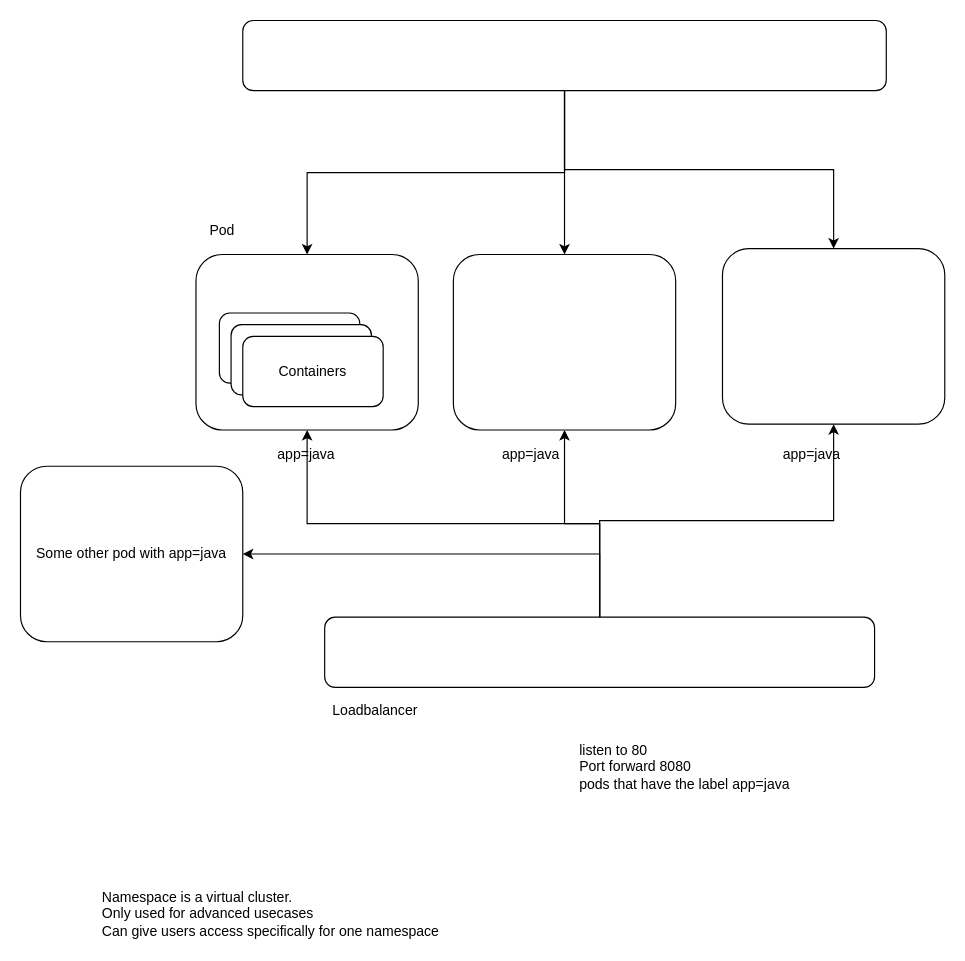
This 965x961 diagram has some shape labels left out. The shapes that lost their labels are listed below. From the top down, each one's box as (x1, y1, x2, y2) in pixels, then its label:
(242, 19, 886, 91): Deployment replicas=3
(324, 616, 875, 687): Service
